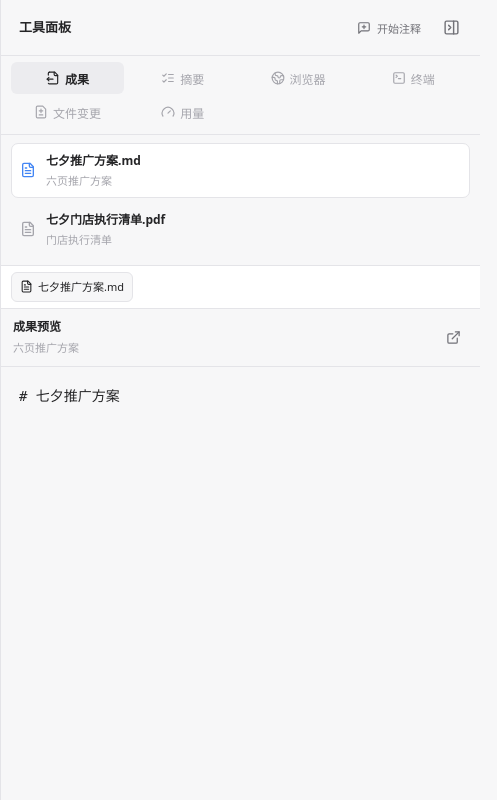
Test: WorkbenchPanel › uses an output list and opens a preview tab only after the user selects an output
The width and height of the screenshot is (497, 800).
Expected: the list named "输出内容" is shown, left=1, top=135, right=480, bottom=266
Expected: the button with aria-label "打开 七夕推广方案.md" is shown, left=46, top=151, right=461, bottom=190
Click the button with aria-label "打开 七夕门店执行清单.pdf".
click(106, 219)  # box left=46, top=210, right=461, bottom=249
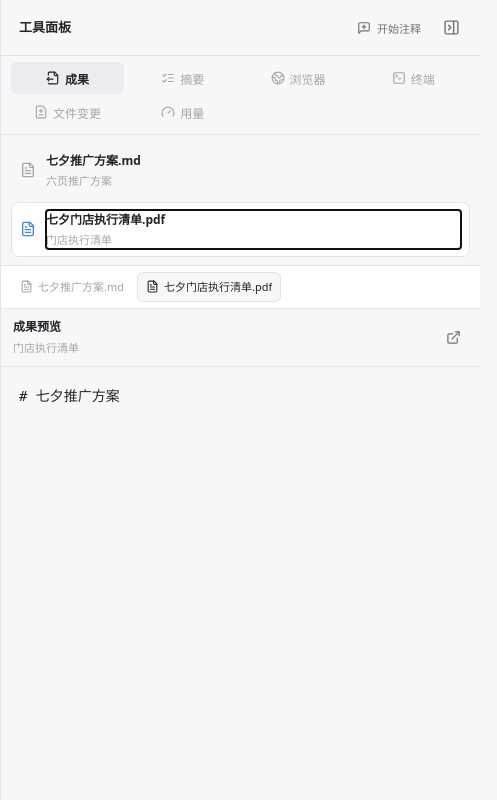
Now the tab "七夕门店执行清单.pdf" is shown, box left=137, top=272, right=281, bottom=302
Now the element named "七夕门店执行清单.pdf 预览" is shown, box left=1, top=309, right=480, bottom=404
